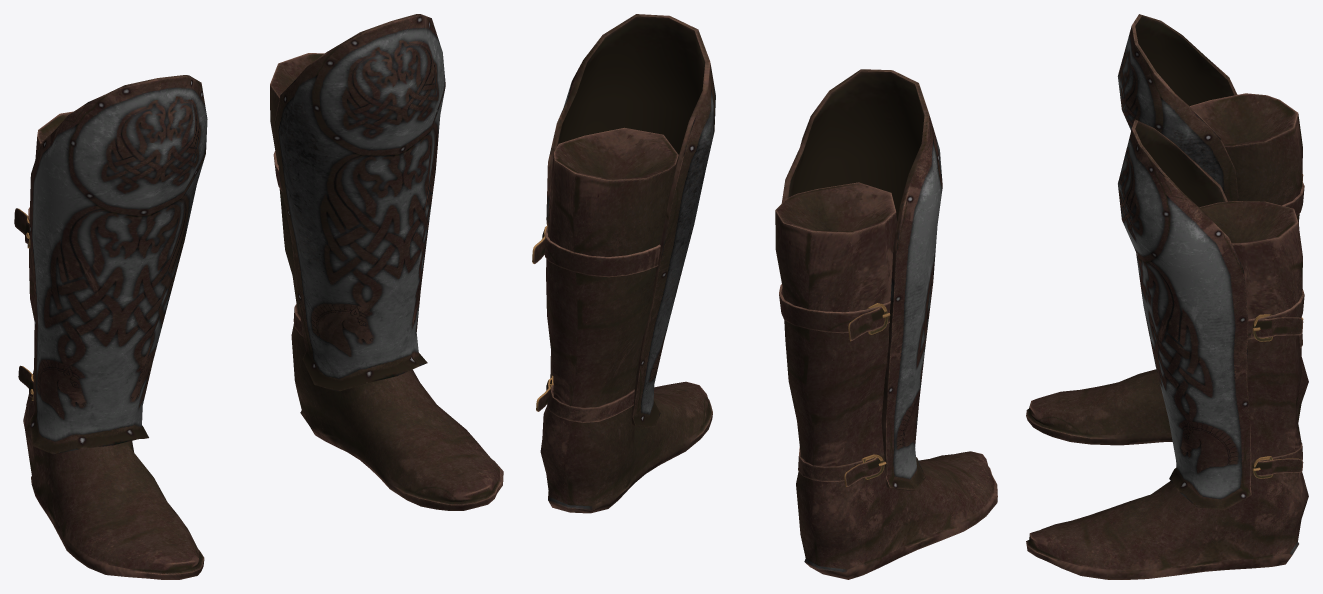
The model's file is cts_rohan_captain_boots1.fbx.
The picture shows the model from 3 angles, left to right: view 1: azimuth 30°, elevation 25°; view 2: azimuth 150°, elevation 25°; view 3: azimuth 270°, elevation 25°; orthographic projection. The views are drawn at different scales.
Parts seen in each view (by area): view 1: cts_rohan_captain_boots1; view 2: cts_rohan_captain_boots1; view 3: cts_rohan_captain_boots1.
Part boxes in pixels (bbox=[...]): cts_rohan_captain_boots1: bbox=[14, 14, 503, 579]; cts_rohan_captain_boots1: bbox=[532, 14, 997, 579]; cts_rohan_captain_boots1: bbox=[1026, 14, 1308, 579].
Size of the model in its own units: 0.4823 by 0.3222 by 0.5269.
